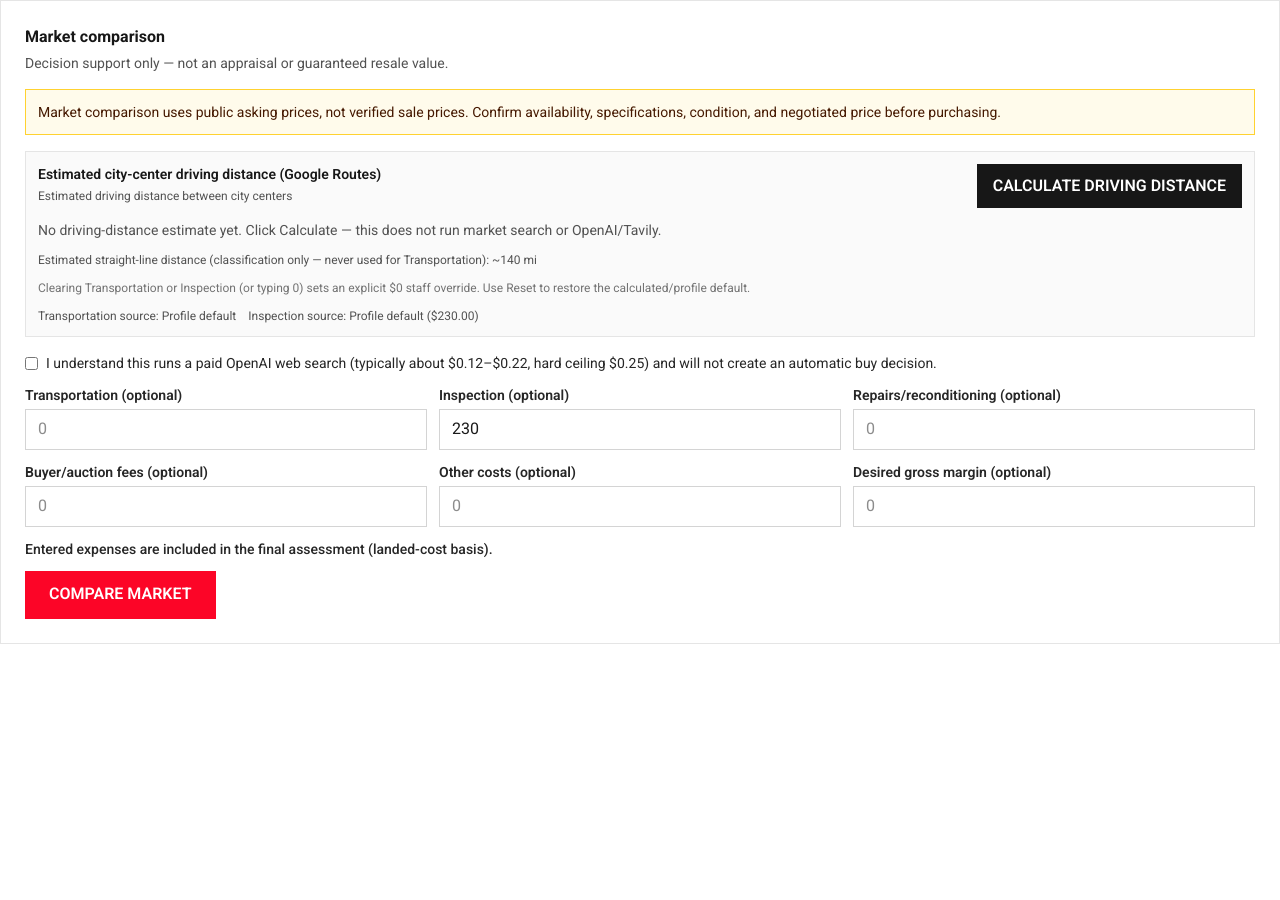
Test case: Market Comparison Transportation autopopulate › uses a custom saved Buying Profile rate (not hardcoded 2.25)
Click the button with test id "calculate-driving-distance".
click(1109, 186)  # box x1=977 y1=164 x2=1242 y2=208
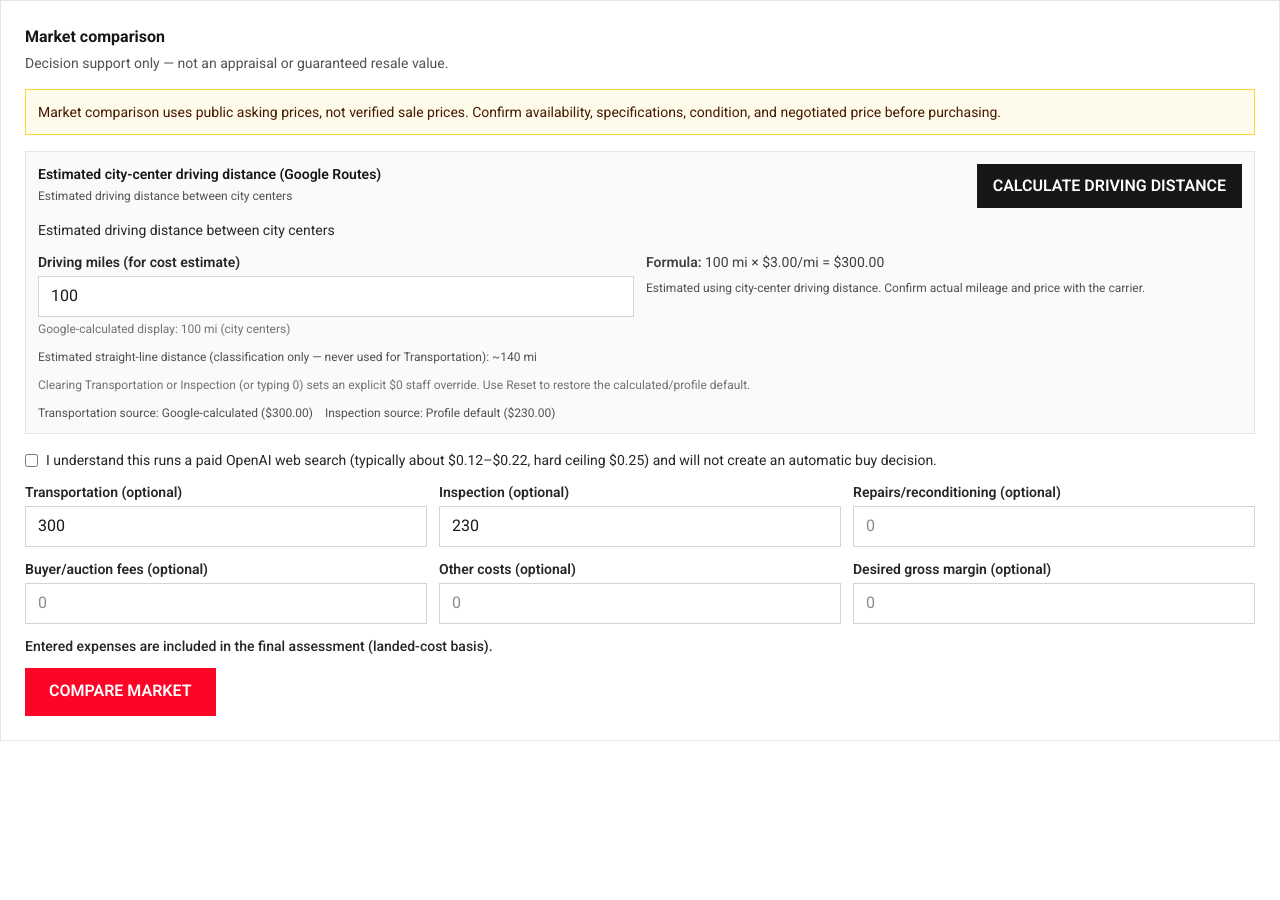
Check: the number field with test id "cost-input-transportation" holds "300", box x1=25 y1=506 x2=427 y2=547
Check: the element with test id "transportation-formula" shows "100 mi × $3.00/mi = $300.00", box x1=705 y1=254 x2=884 y2=270
